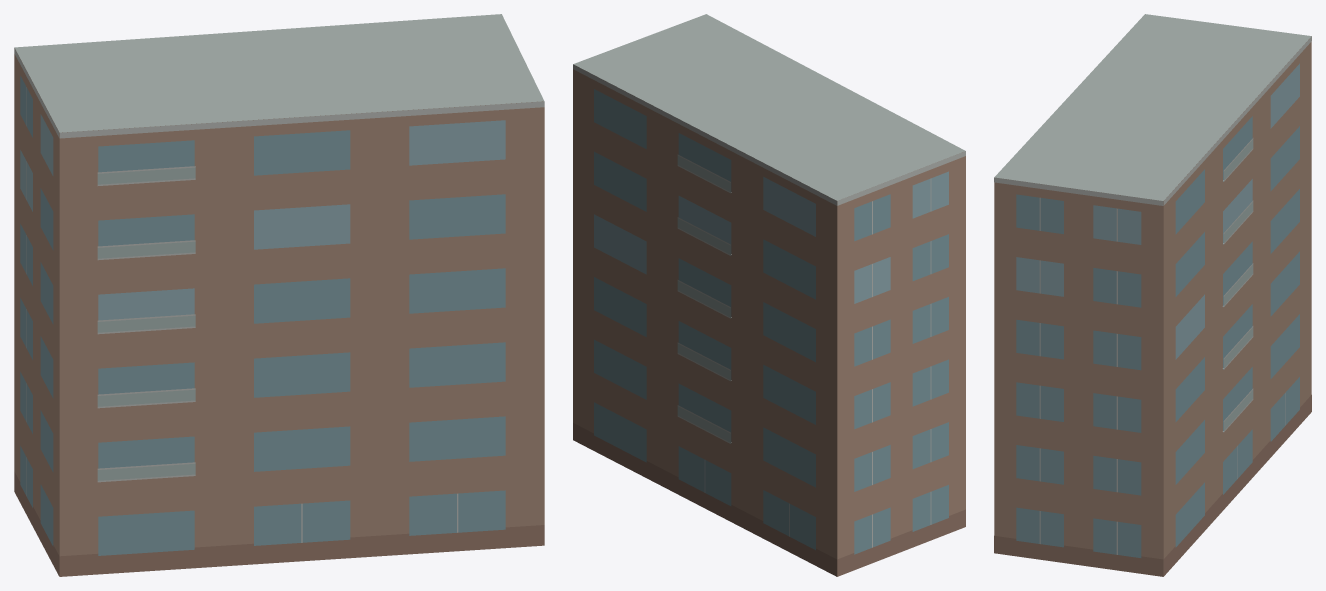
The model's file is survey-upis-32875208.glb.
3 views of the same model, side by side, from view 1: azimuth 30°, elevation 25°; view 2: azimuth 150°, elevation 25°; view 3: azimuth 270°, elevation 25° (orthographic). The views are drawn at different scales.
Visible parts, largest first — view 1: survey-upis-32875208.tmp; view 2: survey-upis-32875208.tmp; view 3: survey-upis-32875208.tmp.
Part boxes in pixels (x1,y1,x2,y2): survey-upis-32875208.tmp: (14, 14, 544, 576); survey-upis-32875208.tmp: (573, 14, 965, 576); survey-upis-32875208.tmp: (994, 14, 1311, 576).
Bounding box in the file's own units: 19.55 × 18.3 × 14.03.
